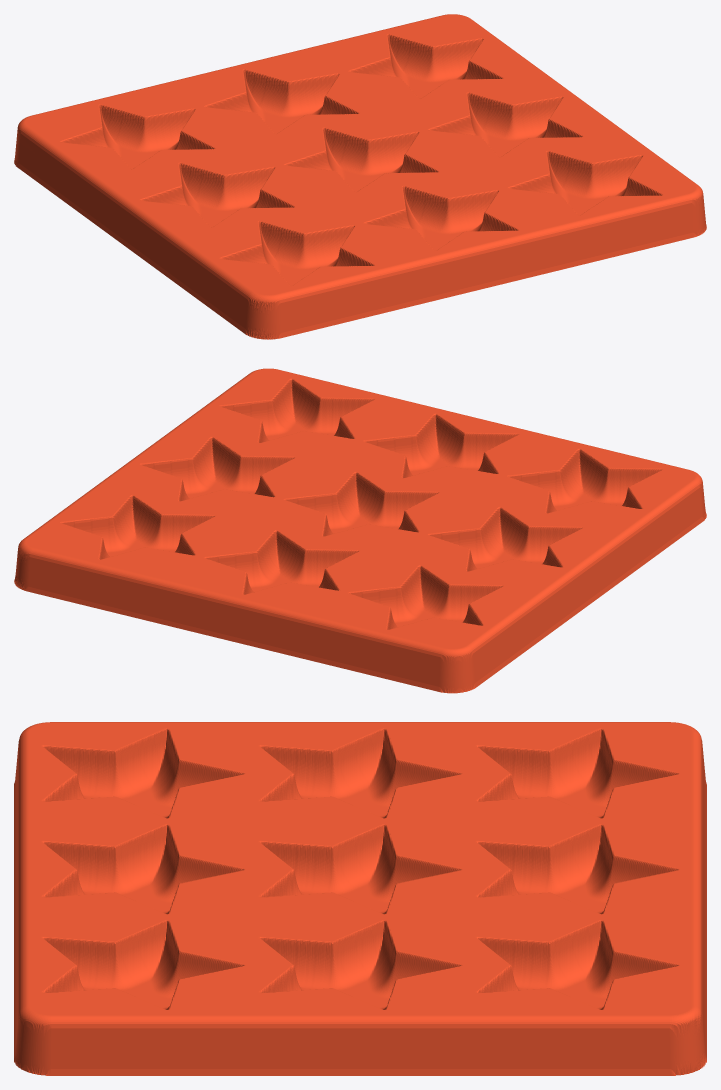
File: mold.glb
3 renders of one model, top to bottom at view 1: azimuth 30°, elevation 25°; view 2: azimuth 150°, elevation 25°; view 3: azimuth 270°, elevation 25°, orthographic. The views are drawn at different scales.
Parts seen in each view (by area): view 1: geometry_0; view 2: geometry_0; view 3: geometry_0.
Part boxes in pixels (x1,y1,x2,y2): geometry_0: (14,14,706,339); geometry_0: (14,368,706,693); geometry_0: (14,722,706,1075).
Bounding box in the file's own units: 0.1749 × 0.0145 × 0.168.
